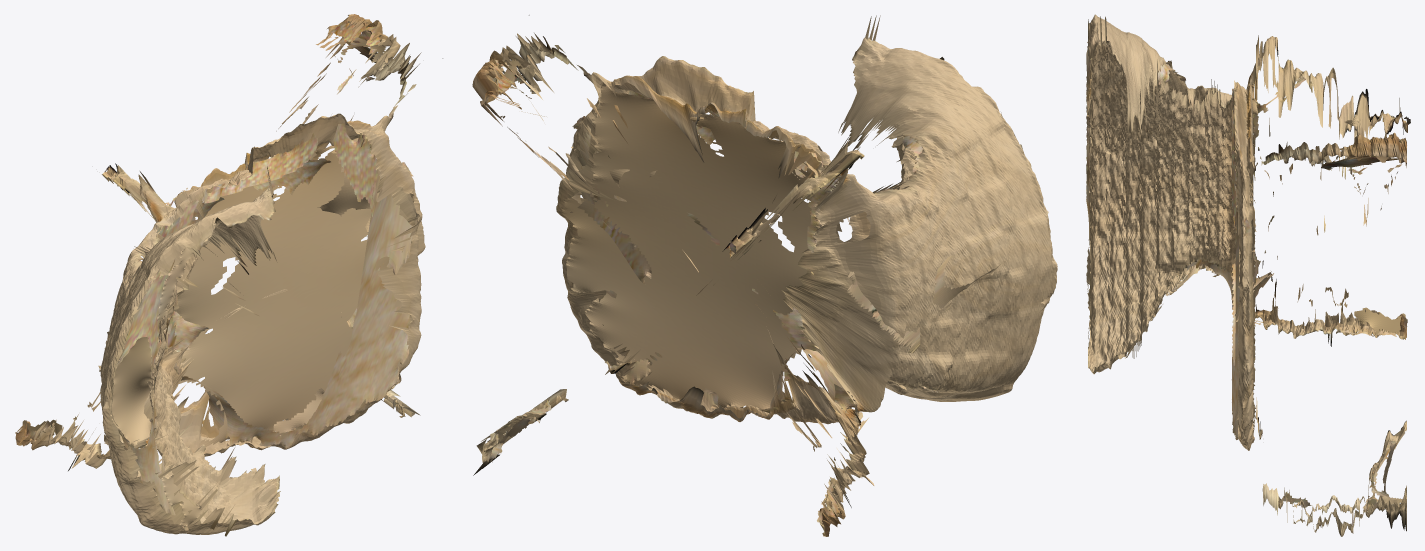
Rendered from detail_mesh.glb.
The picture shows the model from 3 angles, left to right: view 1: azimuth 30°, elevation 25°; view 2: azimuth 150°, elevation 25°; view 3: azimuth 270°, elevation 25°; orthographic projection. The views are drawn at different scales.
Visible parts, largest first — view 1: fill, ipn; view 2: ipn, fill; view 3: ipn, fill.
Part boxes in pixels (x1,y1,x2,y2): fill: (22,20,418,530); ipn: (15,14,442,536); ipn: (472,15,1057,536); fill: (484,59,1053,524); ipn: (1088,14,1407,536); fill: (1086,42,1410,512).
Bounding box in the file's own units: 1.56 × 1.37 × 1.01.
Materials: 2 (1 with a texture image).
